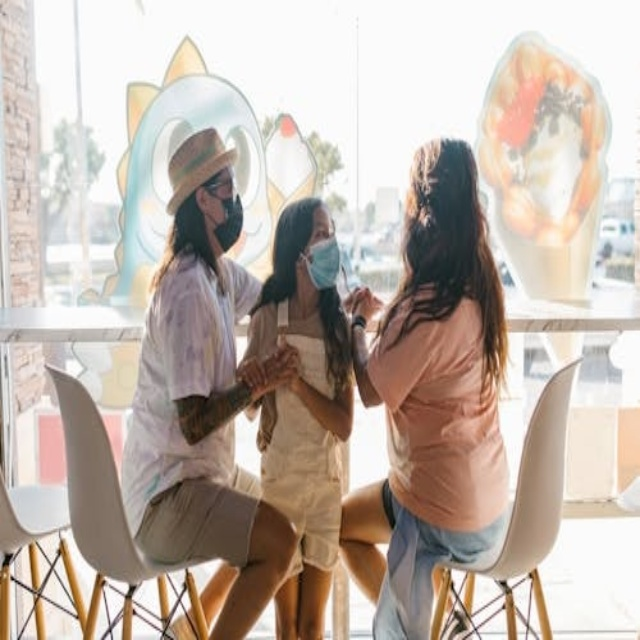Gafas: (202, 167, 238, 196)
Mascara: (302, 237, 341, 290), (212, 195, 243, 252)
Sin_gafas: (308, 219, 337, 238)
Sin_guantes: (342, 268, 382, 329), (250, 344, 298, 394)
